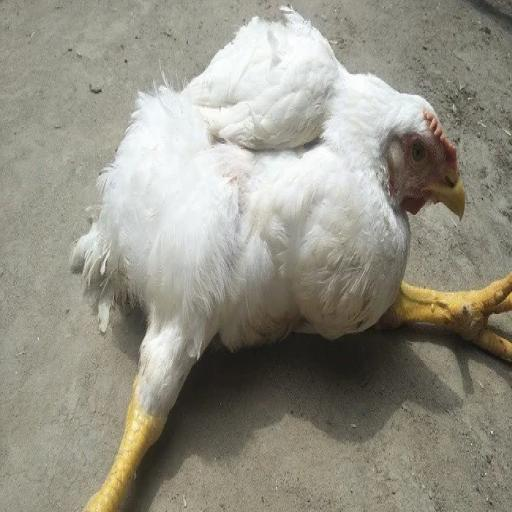healthy: (391, 101, 466, 217)
